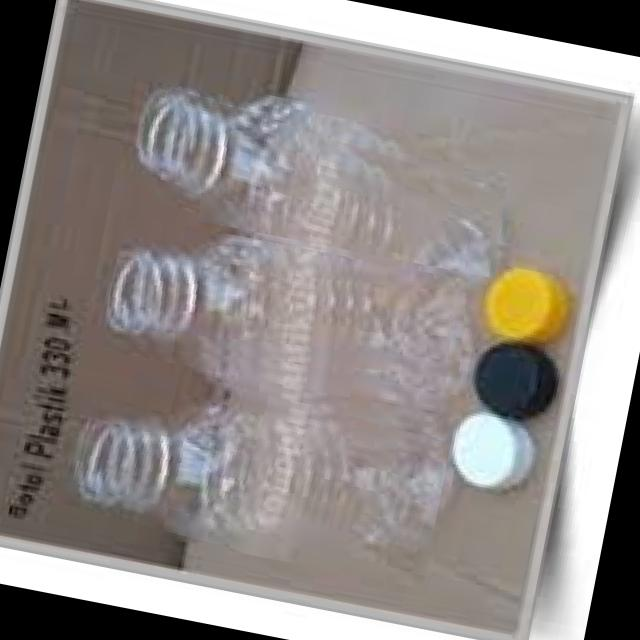plastic bottle: (64, 350, 456, 588), (122, 79, 523, 278), (100, 213, 478, 411)
